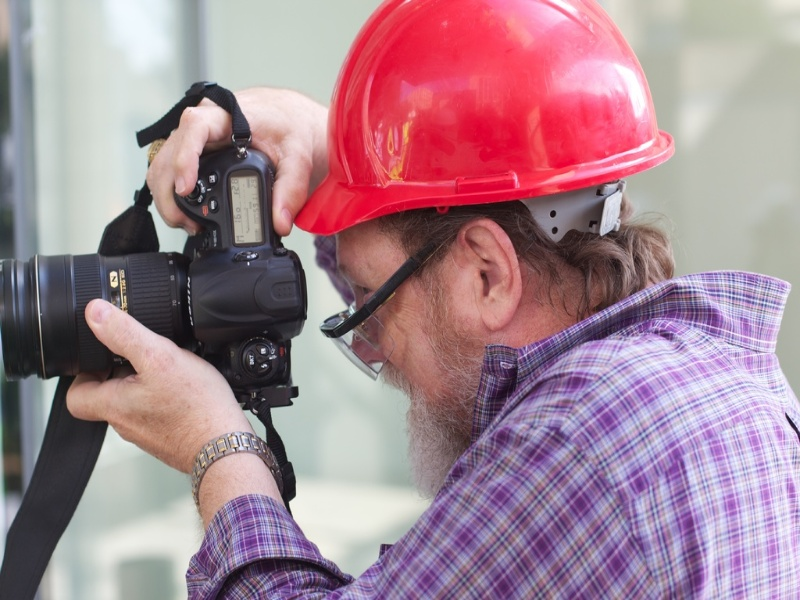Baret: (298, 1, 679, 233)
